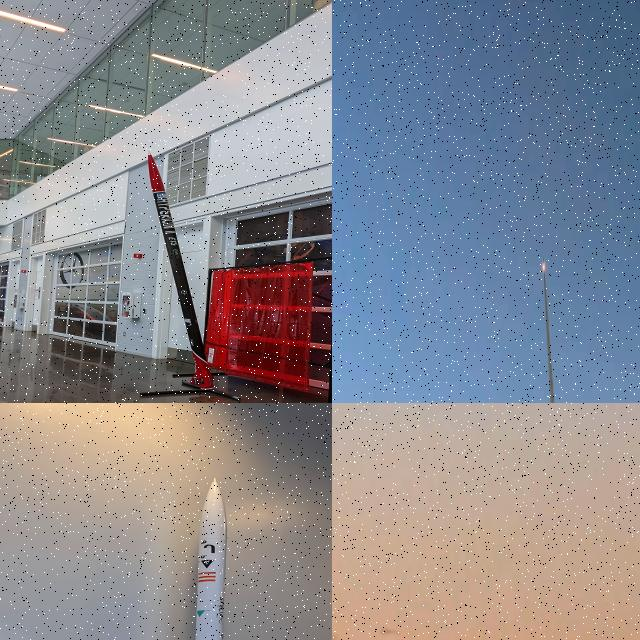Rocket: (148, 150, 215, 390), (195, 478, 227, 640), (543, 258, 544, 263)
